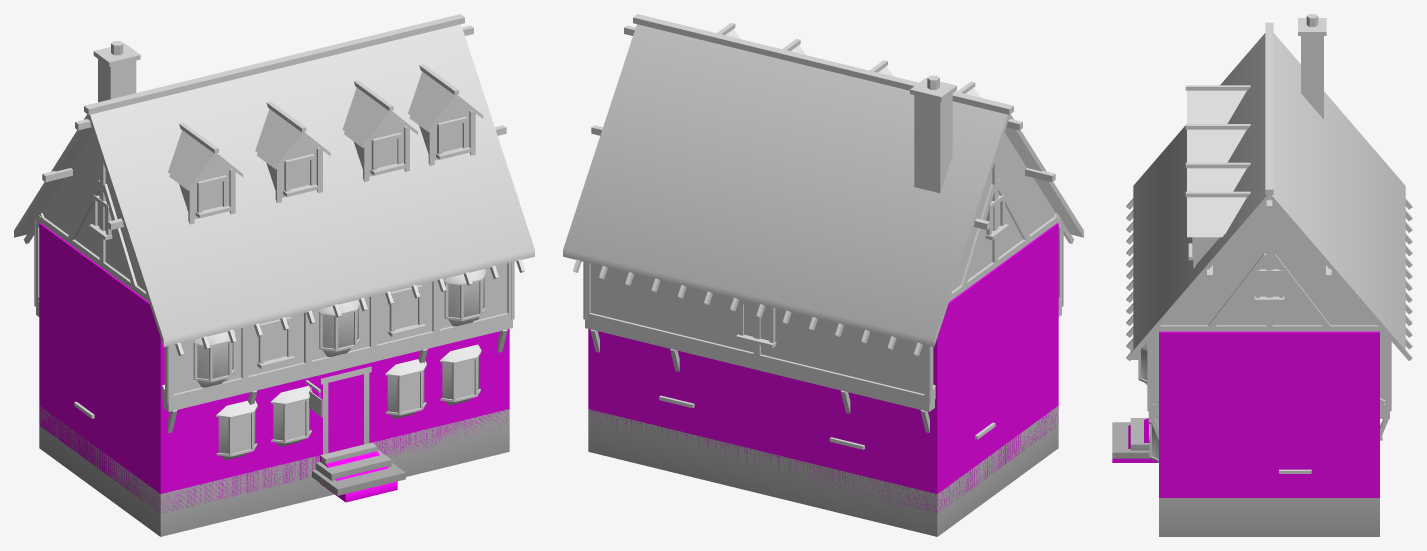
Rendered from imp_house_c.glb.
The picture shows the model from 3 angles, left to right: view 1: azimuth 30°, elevation 25°; view 2: azimuth 150°, elevation 25°; view 3: azimuth 270°, elevation 25°; orthographic projection. The views are drawn at different scales.
Parts seen in each view (by area): view 1: imp_house_c, imp_house_c_hull; view 2: imp_house_c, imp_house_c_hull; view 3: imp_house_c, imp_house_c_hull.
Part boxes in pixels (x1,y1,x2,y2): imp_house_c: (14,14,534,536); imp_house_c_hull: (39,223,509,513); imp_house_c: (563,14,1083,536); imp_house_c_hull: (588,223,1058,513); imp_house_c: (1112,14,1412,536); imp_house_c_hull: (1112,331,1379,497).
Size of the model in its own units: 14.5 by 14.78 by 10.47.
